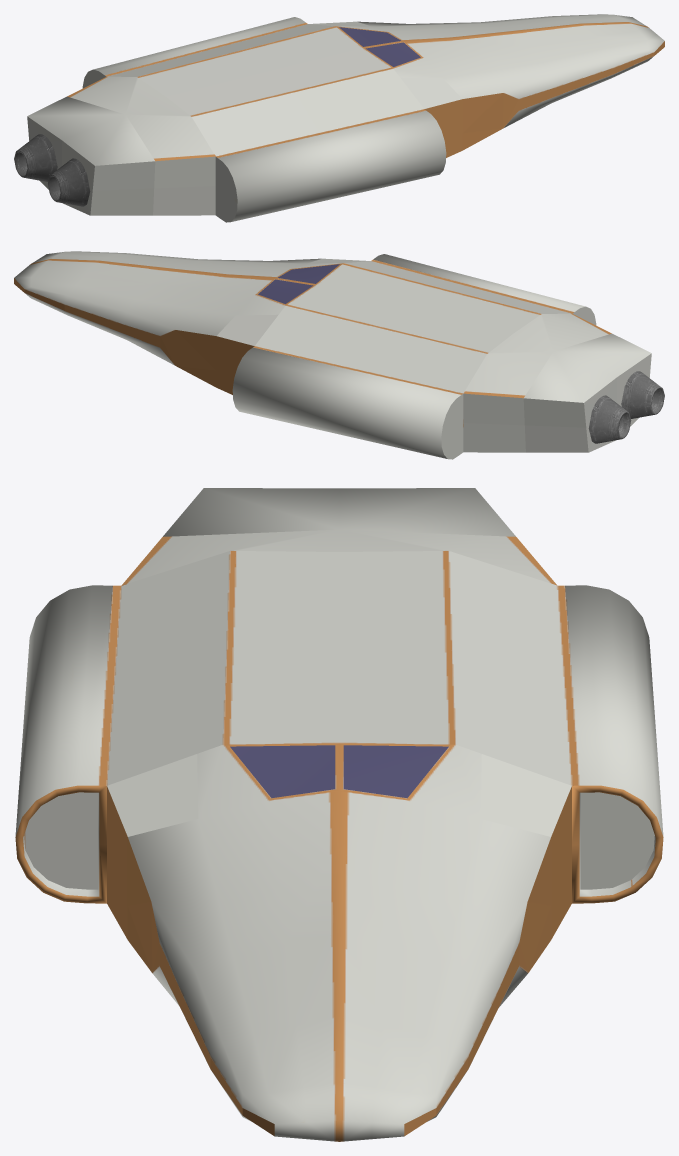
File: ship_6.gltf
3 views of the same model, one above another, from view 1: azimuth 30°, elevation 25°; view 2: azimuth 150°, elevation 25°; view 3: azimuth 270°, elevation 25° (orthographic). The views are drawn at different scales.
Parts seen in each view (by area): view 1: Ship; view 2: Ship; view 3: Ship.
Boxes of the visible parts, <box> form: Ship: <box>14,14,664,222</box>; Ship: <box>14,251,664,459</box>; Ship: <box>15,488,663,1141</box>.
Size of the model in its own units: 21.73 by 3.54 by 9.98.
4 materials, 3 textured.
